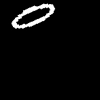chain: (12, 4, 54, 27)
